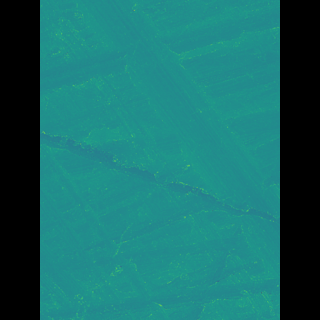Loch: (97, 0, 249, 282), (68, 122, 250, 227), (70, 146, 167, 319), (70, 276, 250, 319)
